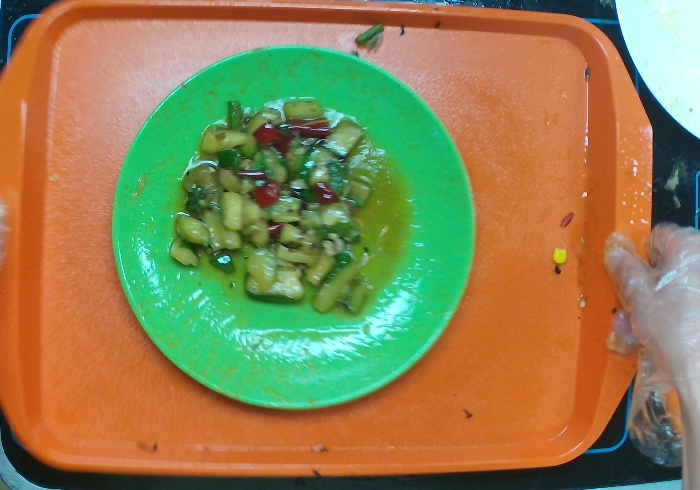HZYJPL-Lv_Se_Yuan_Pan: (110, 42, 478, 412)
